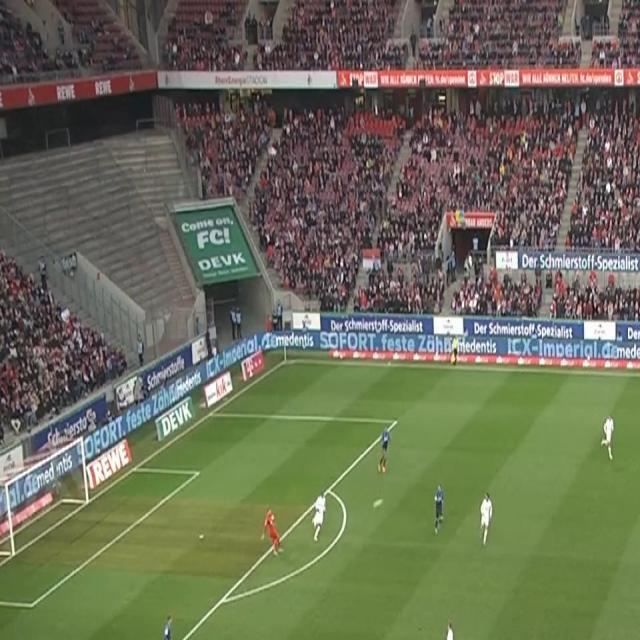ball: (372, 494, 384, 511)
